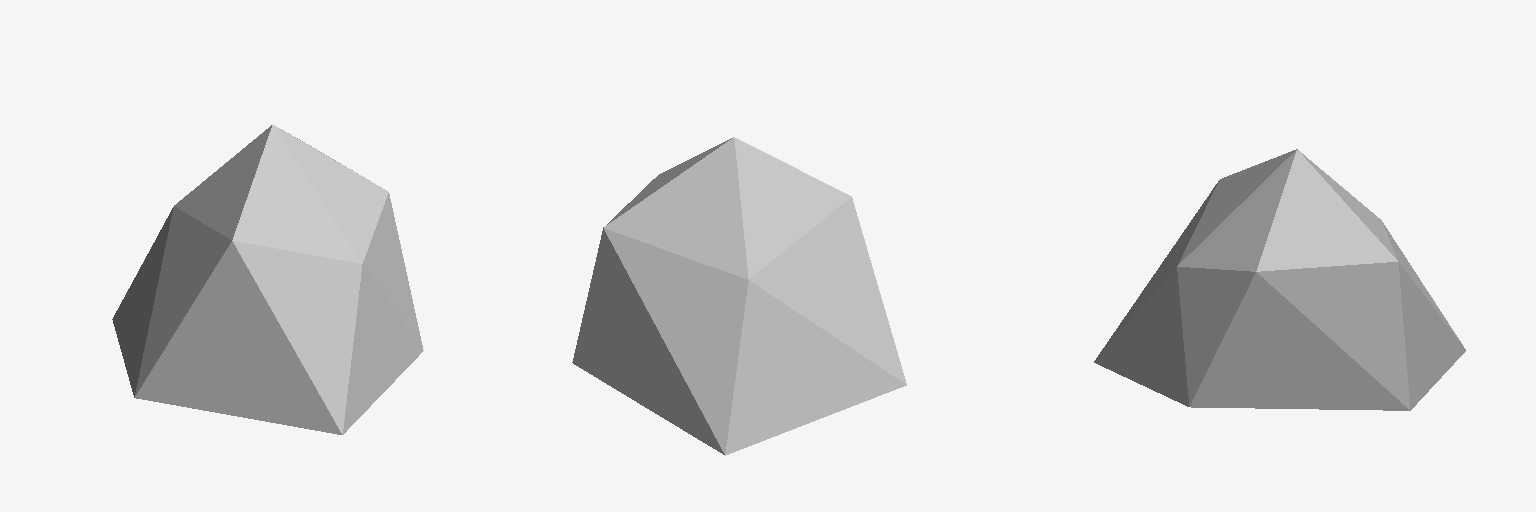
File: boulder2.obj
The picture shows the model from 3 angles: view 1: azimuth 30°, elevation 25°; view 2: azimuth 150°, elevation 25°; view 3: azimuth 270°, elevation 25°; orthographic projection.
Parts seen in each view (by area): view 1: Icosphere; view 2: Icosphere; view 3: Icosphere.
Part boxes in pixels (x1,y1,x2,y2): Icosphere: (112, 125, 423, 434); Icosphere: (572, 137, 906, 455); Icosphere: (1094, 149, 1465, 410).
Size of the model in its own units: 0.9655 by 0.843 by 1.2.